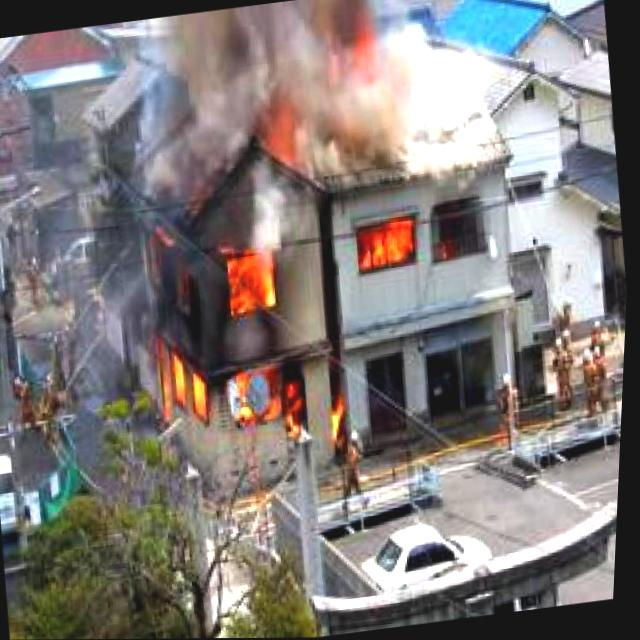Fire: (131, 228, 322, 468), (352, 208, 429, 278)
Smoke: (136, 0, 502, 201)
